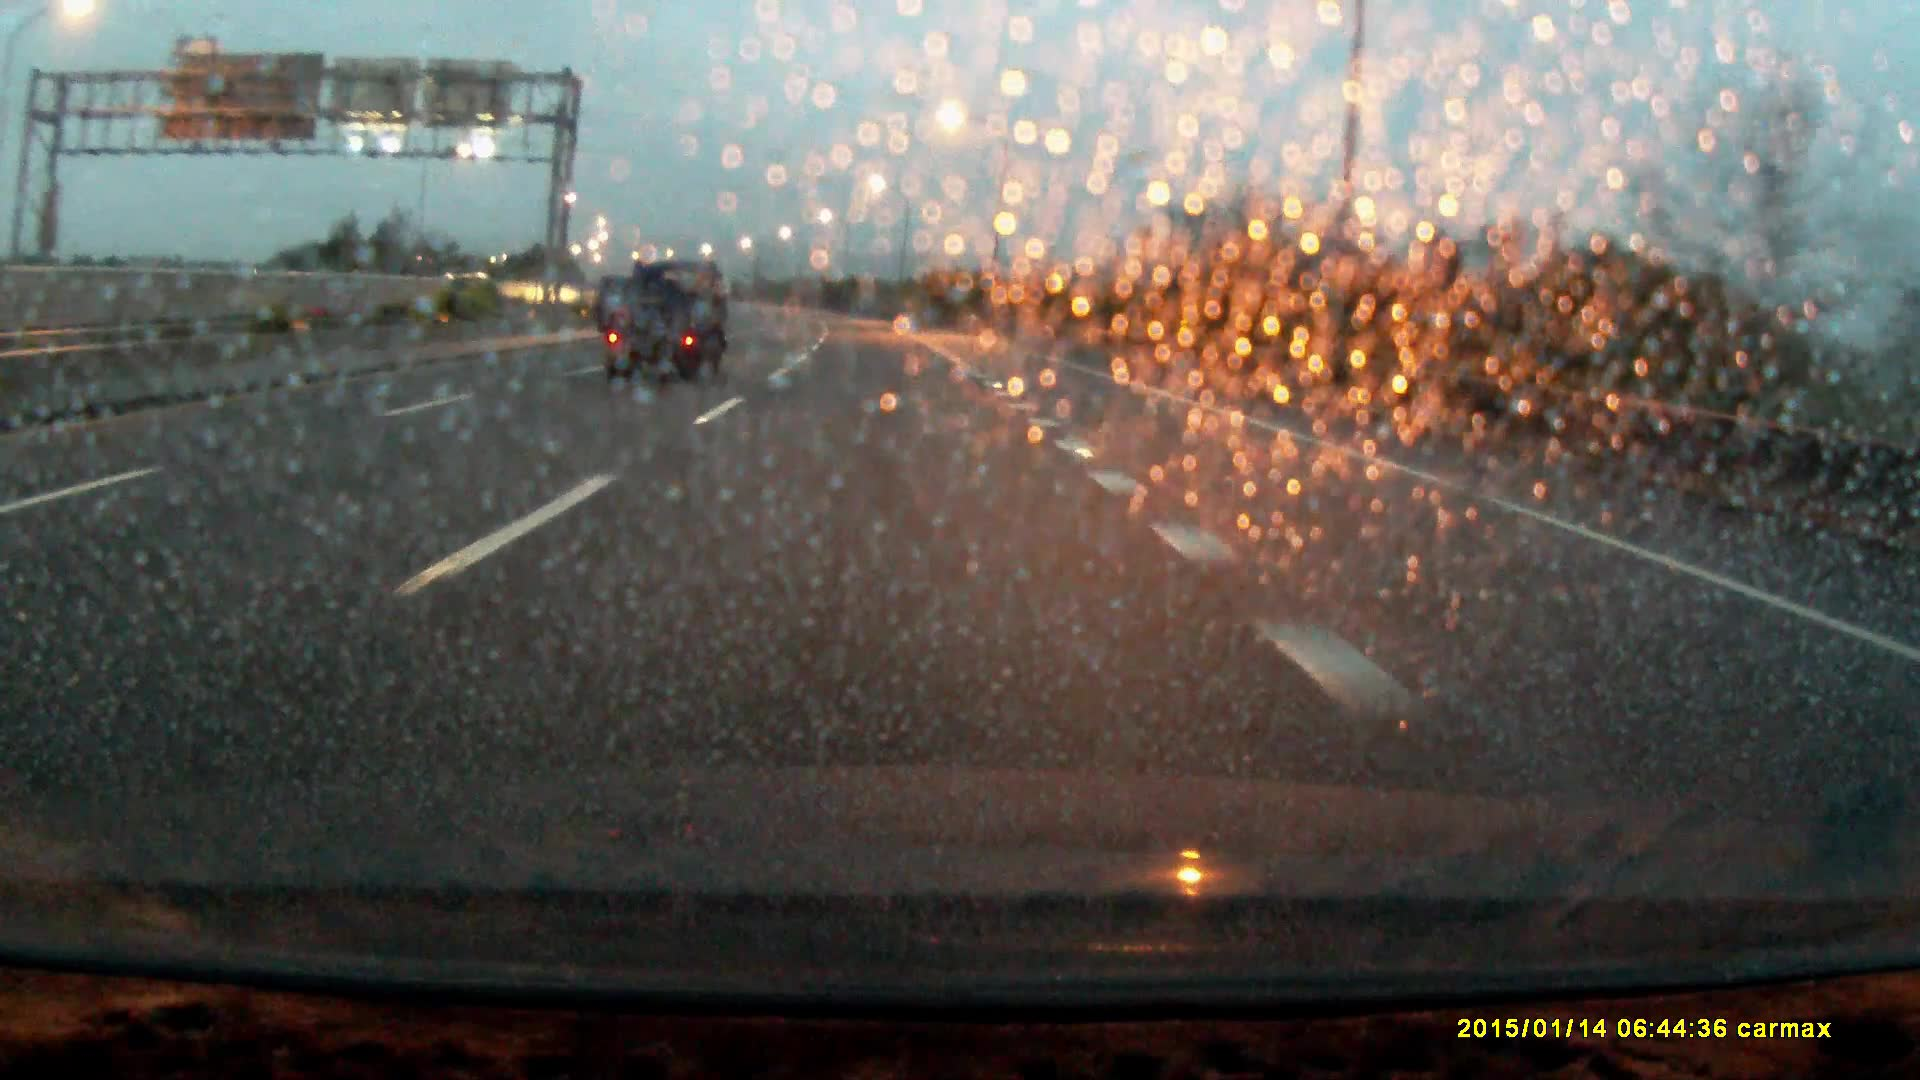vehicle: (603, 256, 733, 378), (444, 268, 539, 311)
